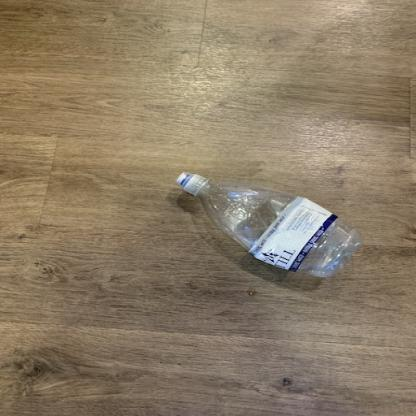trash: (172, 170, 366, 280)
